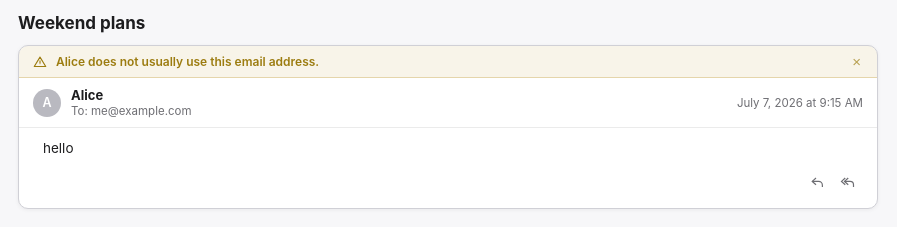
dismisses the trust banner via its close button
Check: the text "Alice does not usually use this email address." is shown, box 56,54 -> 319,69
What coordinates should you click on to do the following:
click the button named "Dismiss warning"
I would click on:
 (857, 62)
Its box is 850,54 -> 863,69.
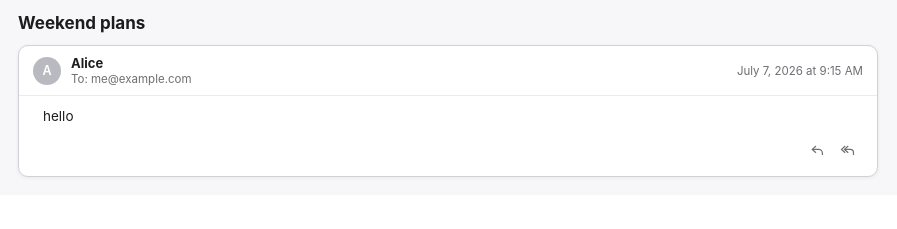
Check: the text "does not usually use this email address" is gone
